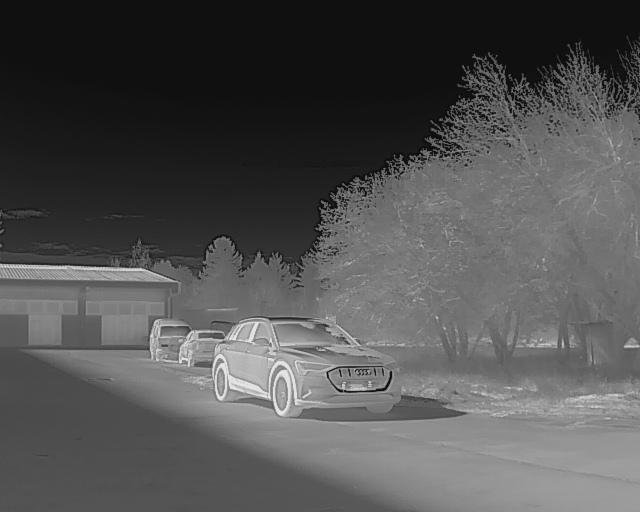drone: (332, 376, 382, 397)
